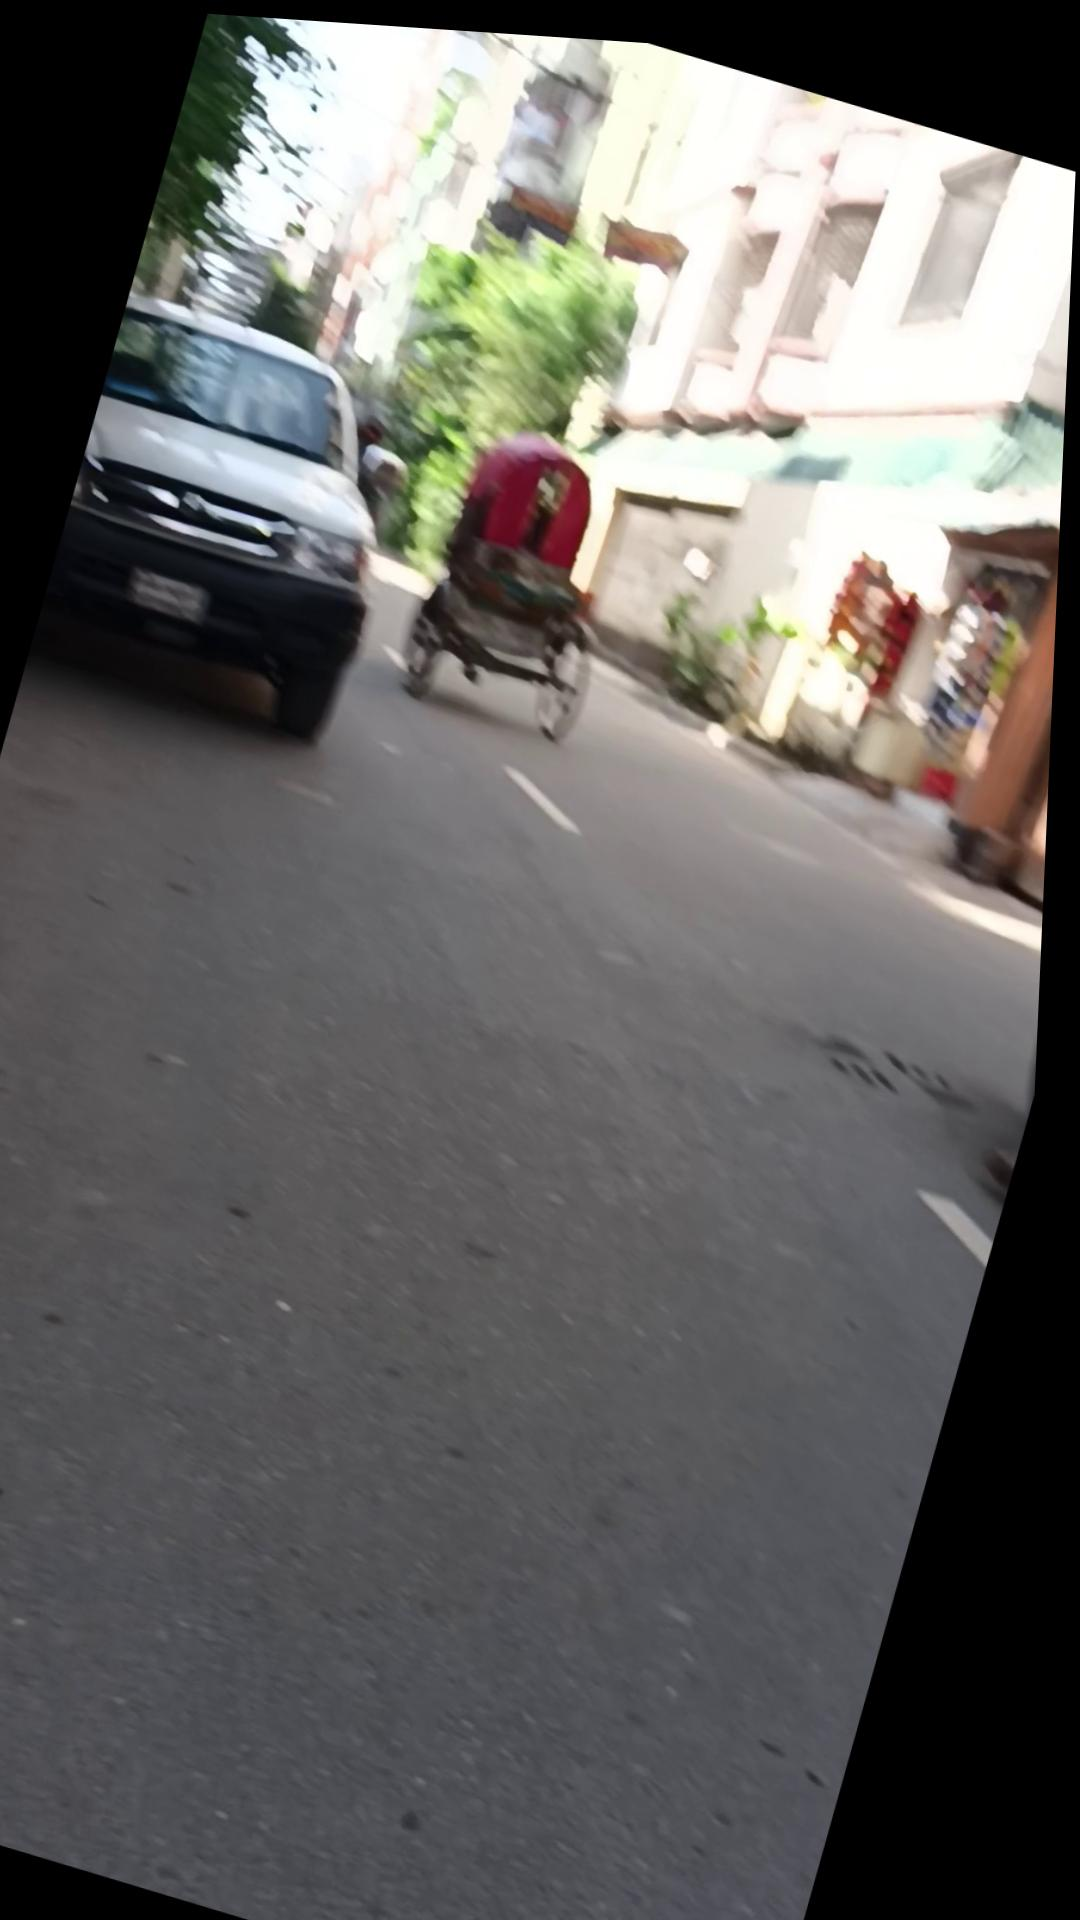Bollard: (31, 280, 442, 749)
Garbage: (684, 707, 1057, 946)
Light-pole: (339, 175, 661, 609), (132, 7, 370, 329)
